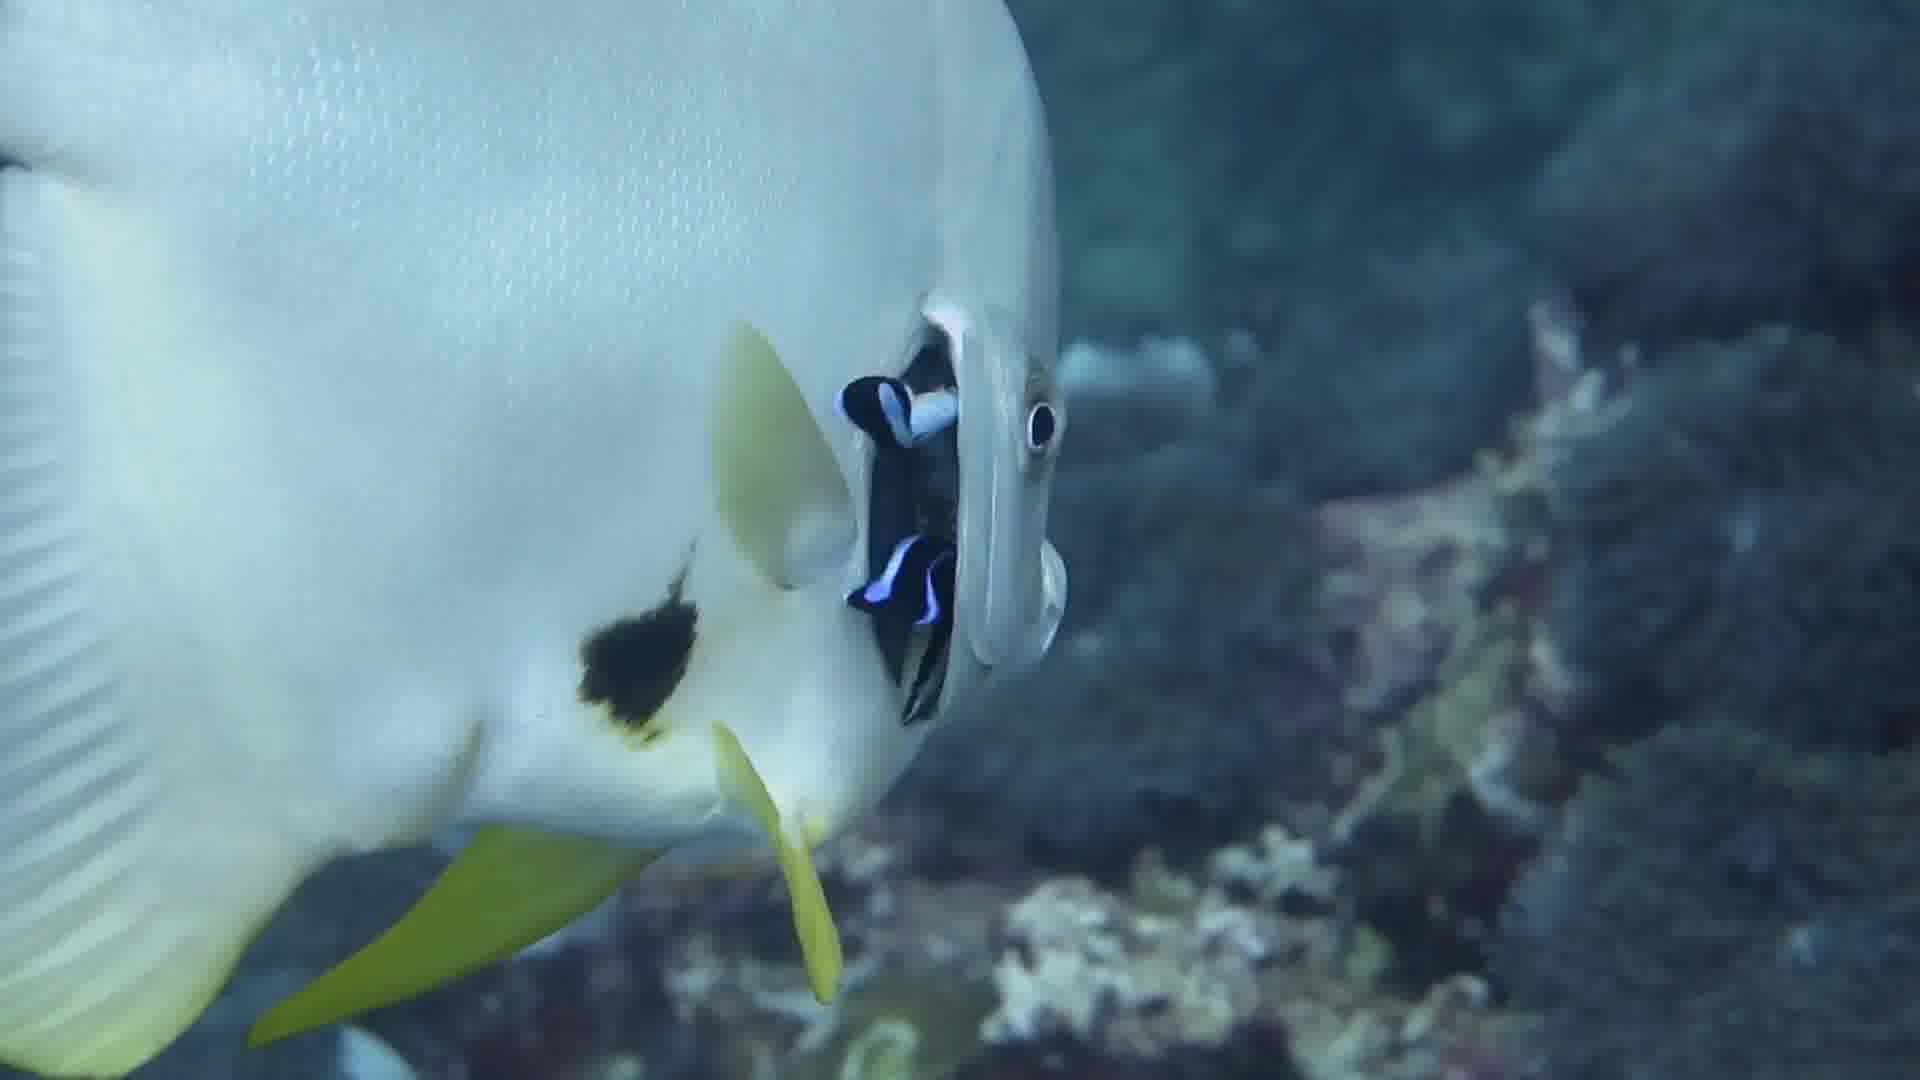Platax teira: (1, 1, 1156, 1080)
